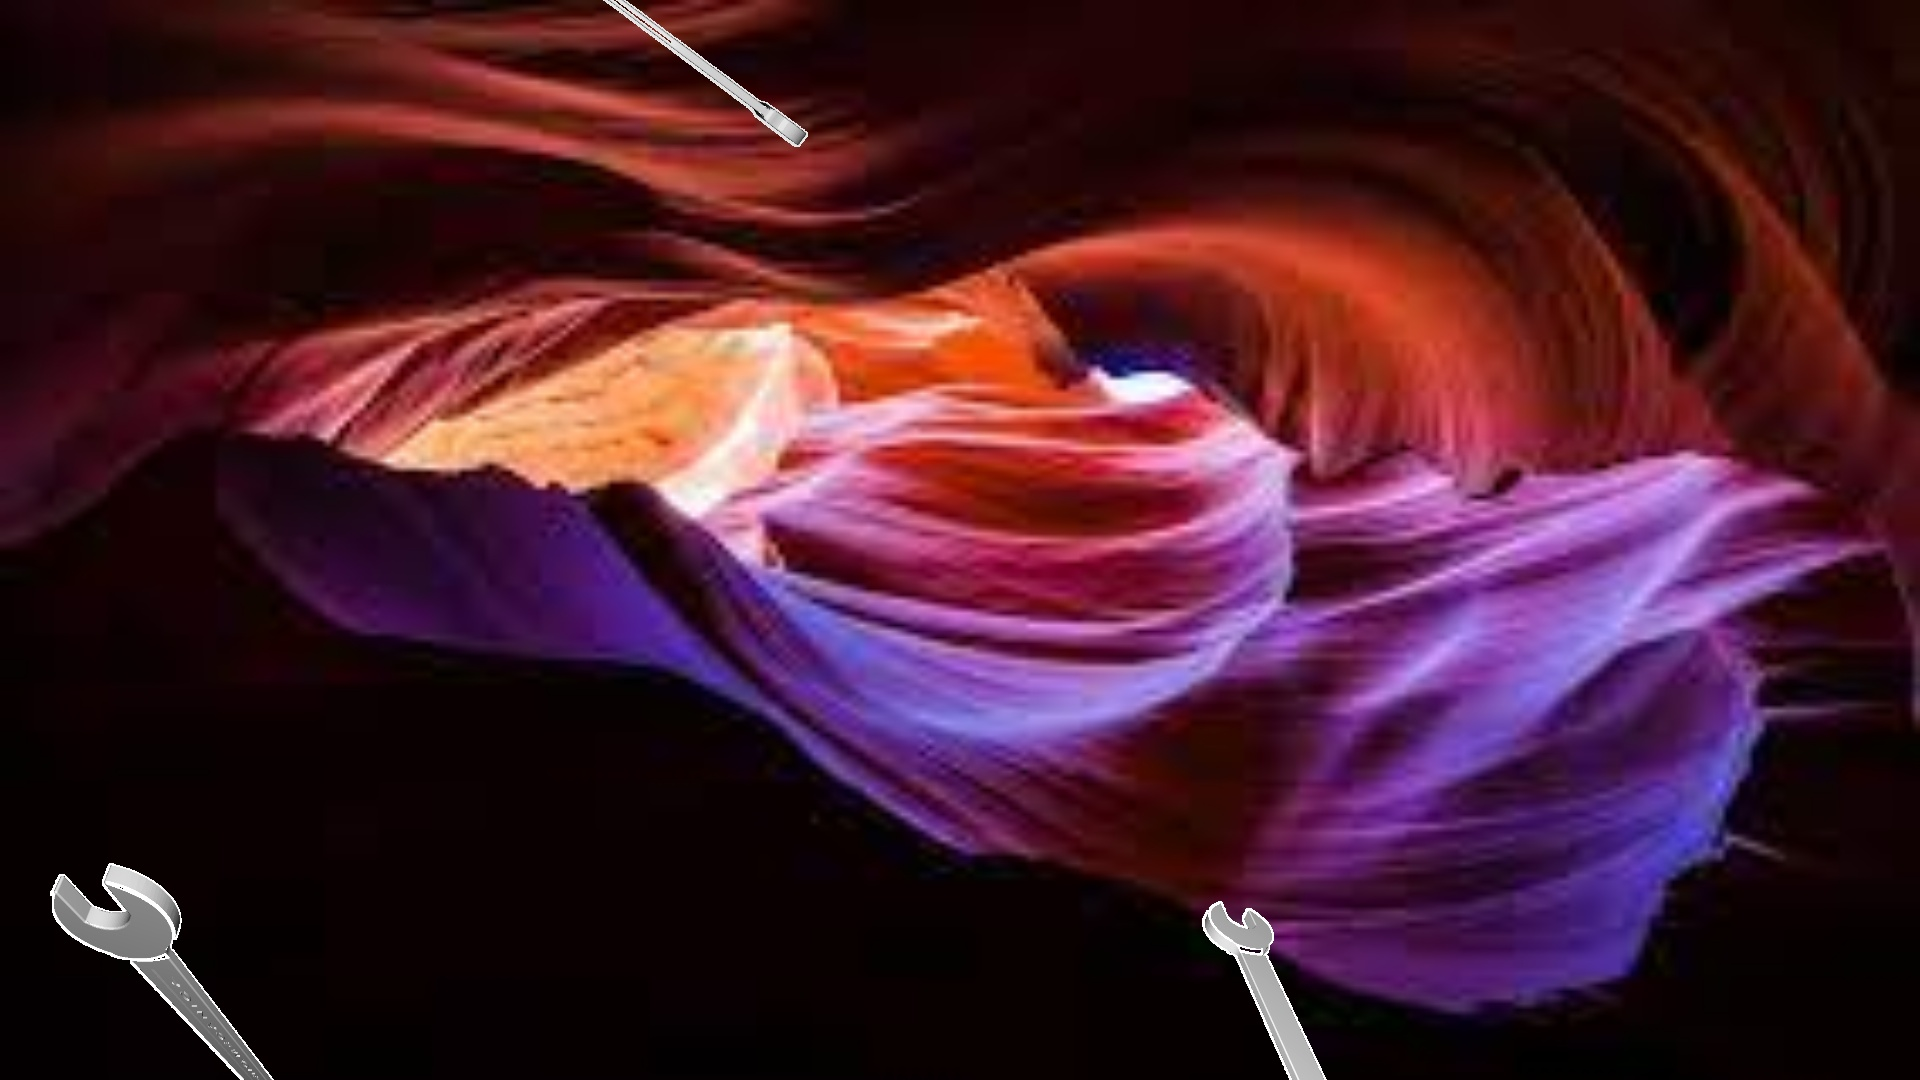Mixed Key: (50, 862, 273, 1079), (603, 0, 807, 146), (1203, 901, 1327, 1079)
